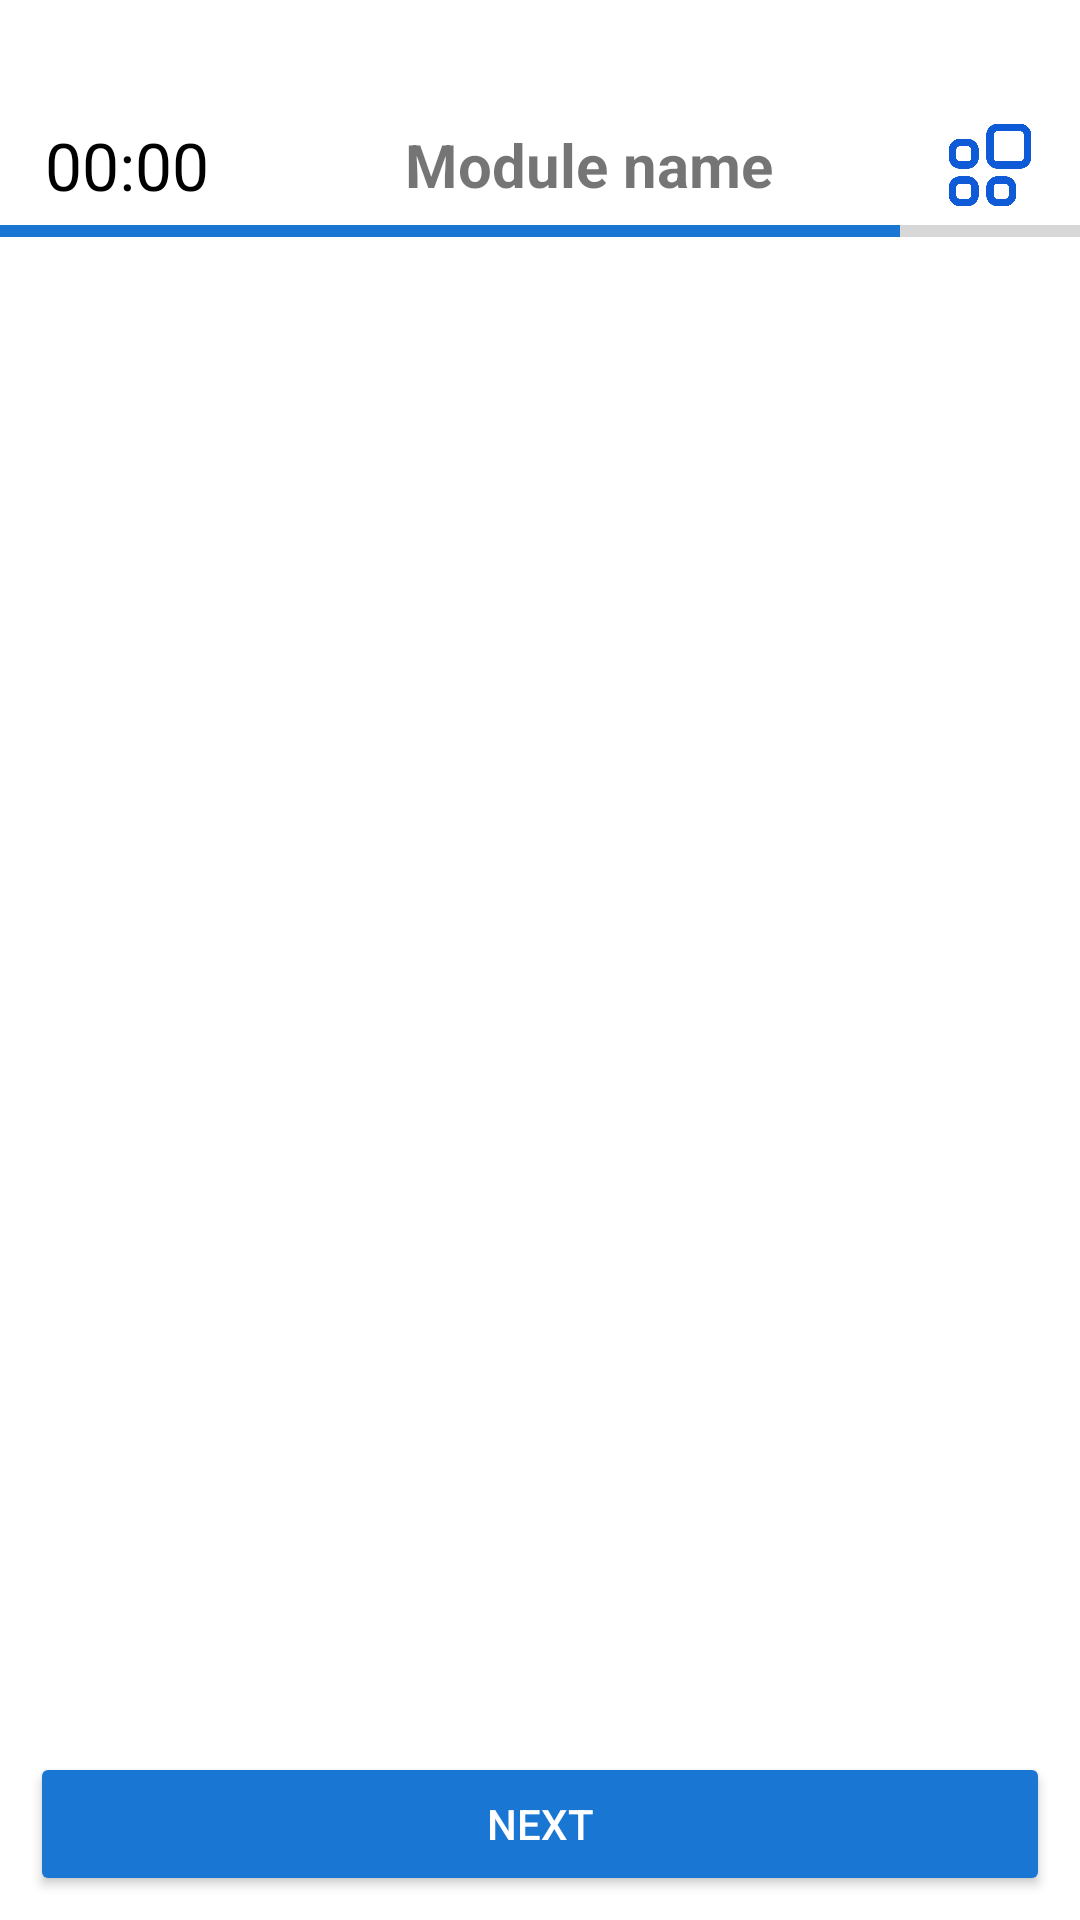

Named icons in this screenshot (1080×1920) and their centers, [x,y]:
widget: [990,165]
